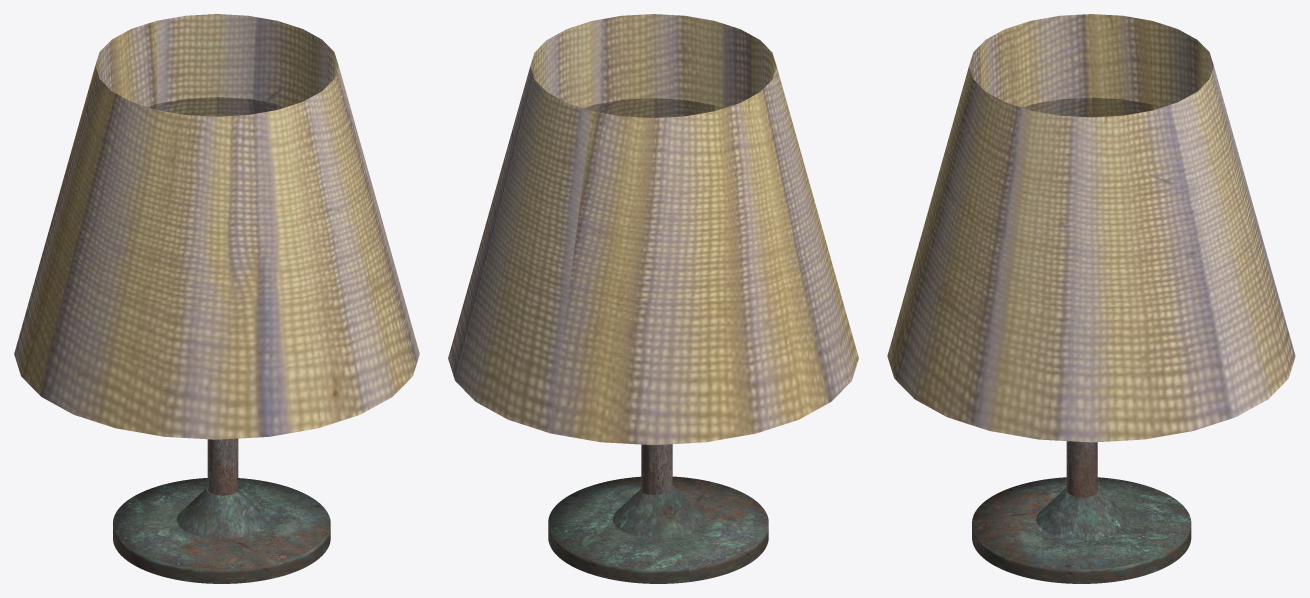
The model's file is TableLamp.FBX.
3 renders of one model, left to right at view 1: azimuth 30°, elevation 25°; view 2: azimuth 150°, elevation 25°; view 3: azimuth 270°, elevation 25°, orthographic.
Parts seen in each view (by area): view 1: Cone001, Cylinder001, Cylinder002; view 2: Cone001, Cylinder001, Cylinder002; view 3: Cone001, Cylinder001, Cylinder002.
Part boxes in pixels (<box>): Cone001: <box>14,14,419,439</box>; Cylinder001: <box>113,478,330,583</box>; Cylinder002: <box>207,438,238,495</box>; Cone001: <box>448,14,858,445</box>; Cylinder001: <box>548,476,768,583</box>; Cylinder002: <box>641,444,672,494</box>; Cone001: <box>887,14,1295,442</box>; Cylinder001: <box>972,477,1191,583</box>; Cylinder002: <box>1066,441,1097,497</box>.
Size of the model in its own units: 11.33 by 14.44 by 11.33.
